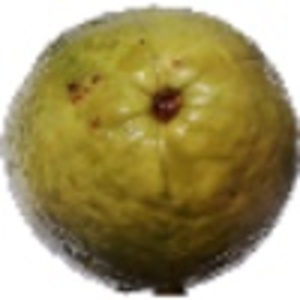goiaba: (5, 5, 294, 282)
